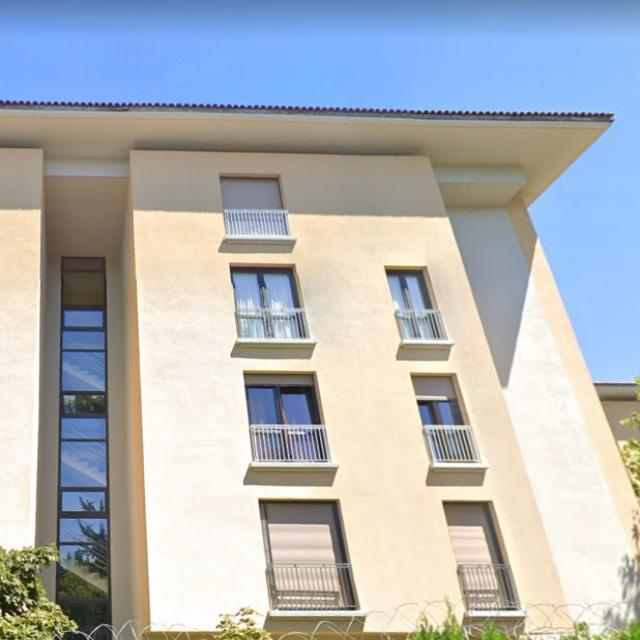Building: (0, 102, 639, 640)
